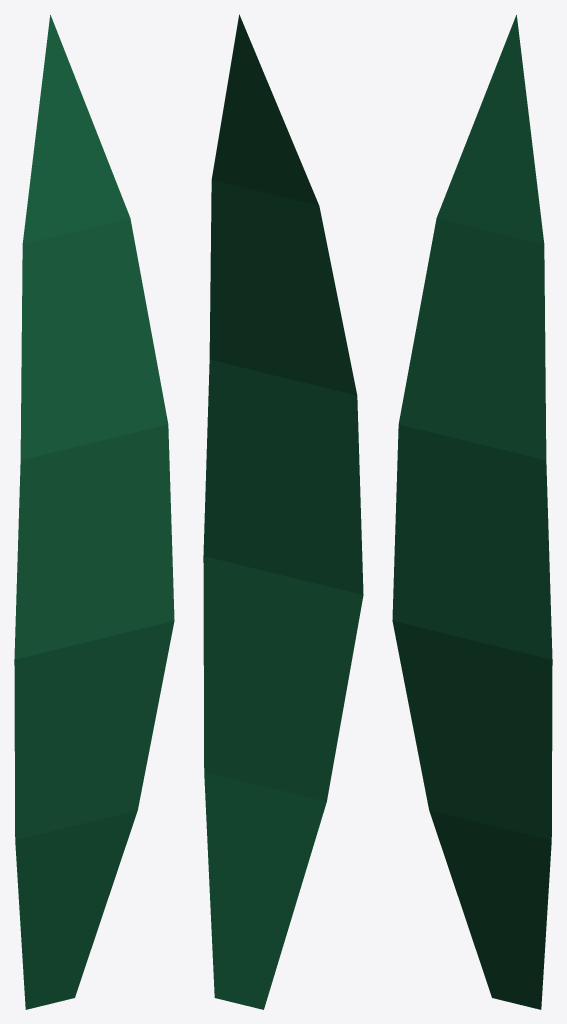
File: Grass_Blade.fbx
The picture shows the model from 3 angles, left to right: view 1: azimuth 30°, elevation 25°; view 2: azimuth 150°, elevation 25°; view 3: azimuth 330°, elevation 25°; orthographic projection.
Visible parts, largest first — view 1: Plane; view 2: Plane; view 3: Plane.
Boxes of the visible parts, bbox=[...] form: Plane: bbox=[14, 15, 174, 1009]; Plane: bbox=[203, 14, 363, 1009]; Plane: bbox=[392, 15, 552, 1009].
Bounding box in the file's own units: 33.84 × 200 × 16.19.
